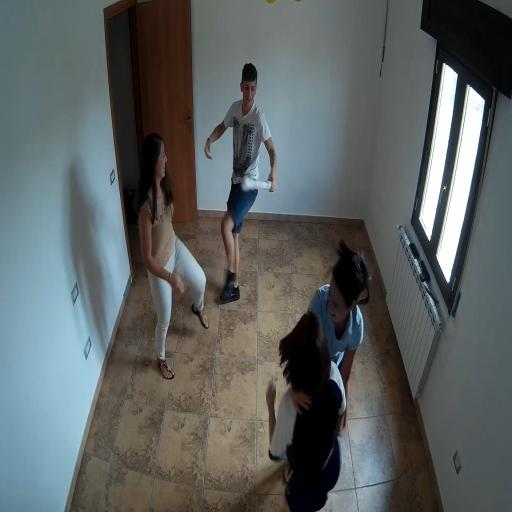violencia: (259, 234, 377, 510)
